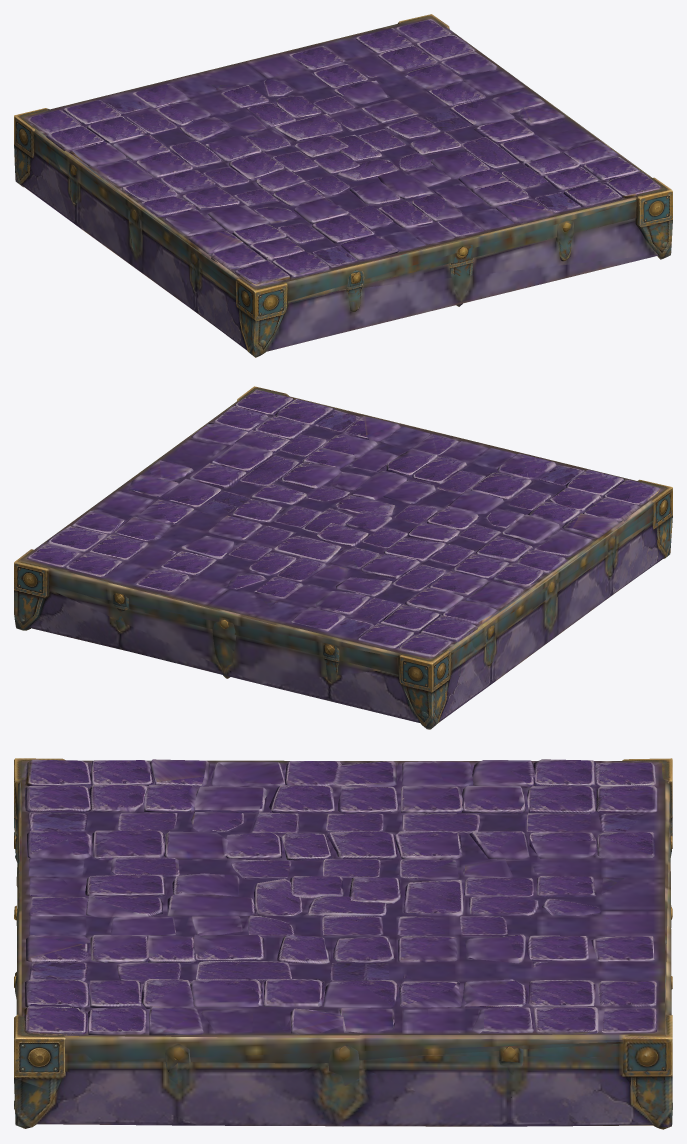
File: roof-deck.glb
3 views of the same model, one above another, from view 1: azimuth 30°, elevation 25°; view 2: azimuth 150°, elevation 25°; view 3: azimuth 270°, elevation 25° (orthographic). The views are drawn at different scales.
Size of the model in its own units: 0.9998 by 0.1671 by 1.
Materials: 1 (1 with a texture image).
